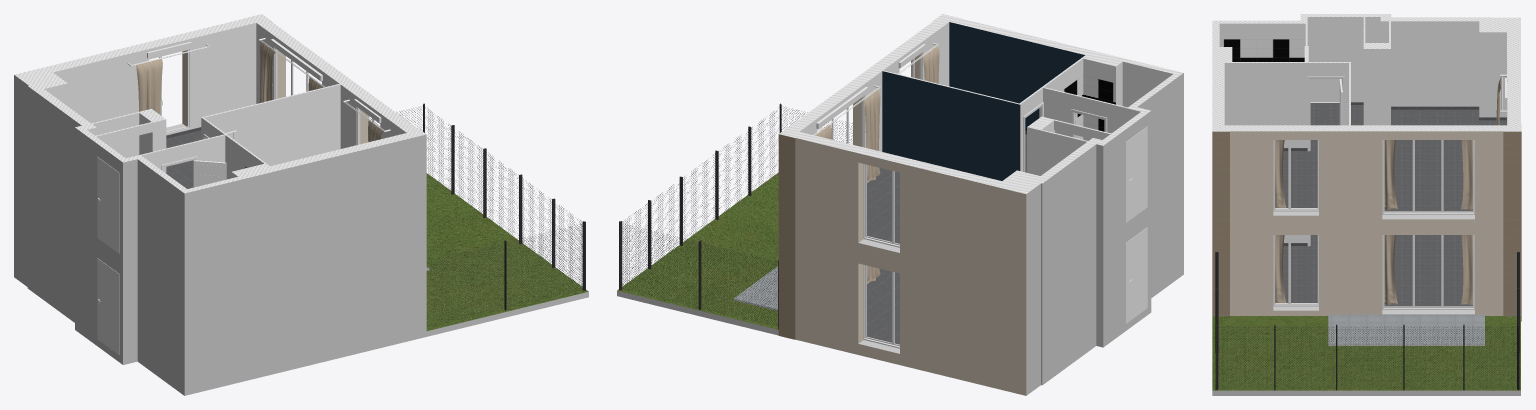
The picture shows the model from 3 angles, left to right: view 1: azimuth 30°, elevation 25°; view 2: azimuth 150°, elevation 25°; view 3: azimuth 270°, elevation 25°; orthographic projection. The views are drawn at different scales.
Parts seen in each view (by area): view 1: masonry_02, masonry_01, ground_garden_01, section_face_02, fence_01, windows_02, door_01, door_02, curtain_06, ground_living_02, curtain_04, interior_door_panel_02 (+1 smaller); view 2: masonry_02, masonry_01, ground_garden_01, section_face_02, fence_01, ground_living_02, ground_living_01, windows_02, door_01, door_02, curtain_04, ground_terrace_01 (+3 smaller); view 3: masonry_02, masonry_01, ground_garden_01, section_face_02, fence_01, ground_living_02, ground_living_01, ground_terrace_01, door_02, windows_02, windows_01, ground_bed_01 (+9 smaller).
Boxes of the visible parts, <box> form: masonry_02: <box>14,21,426,294</box>; masonry_01: <box>14,176,588,395</box>; ground_garden_01: <box>426,173,588,330</box>; section_face_02: <box>14,14,426,193</box>; fence_01: <box>370,103,585,326</box>; windows_02: <box>147,39,381,145</box>; door_01: <box>97,258,119,354</box>; door_02: <box>97,157,119,253</box>; curtain_06: <box>136,58,162,114</box>; ground_living_02: <box>166,130,201,188</box>; curtain_04: <box>259,41,323,102</box>; interior_door_panel_02: <box>193,130,236,187</box>; masonry_02: <box>778,22,1183,294</box>; masonry_01: <box>617,174,1183,395</box>; ground_garden_01: <box>617,172,778,329</box>; section_face_02: <box>779,14,1183,193</box>; fence_01: <box>619,103,852,329</box>; ground_living_02: <box>867,168,899,243</box>; ground_living_01: <box>867,269,899,344</box>; windows_02: <box>816,44,925,247</box>; door_01: <box>1126,227,1147,323</box>; door_02: <box>1126,126,1147,222</box>; curtain_04: <box>815,88,880,182</box>; ground_terrace_01: <box>734,266,777,309</box>; masonry_02: <box>1212,17,1521,226</box>; masonry_01: <box>1212,226,1521,395</box>; ground_garden_01: <box>1212,316,1520,390</box>; section_face_02: <box>1212,14,1521,131</box>; fence_01: <box>1215,252,1519,390</box>; ground_living_02: <box>1384,140,1472,211</box>; ground_living_01: <box>1384,235,1472,306</box>; ground_terrace_01: <box>1328,314,1484,343</box>; door_02: <box>1308,29,1348,102</box>; windows_02: <box>1273,78,1507,214</box>; windows_01: <box>1273,235,1474,309</box>; ground_bed_01: <box>1283,246,1317,302</box>.
Bounding box in the file's own units: 11.75 × 5.4 × 7.96.
69 materials, 67 textured.
